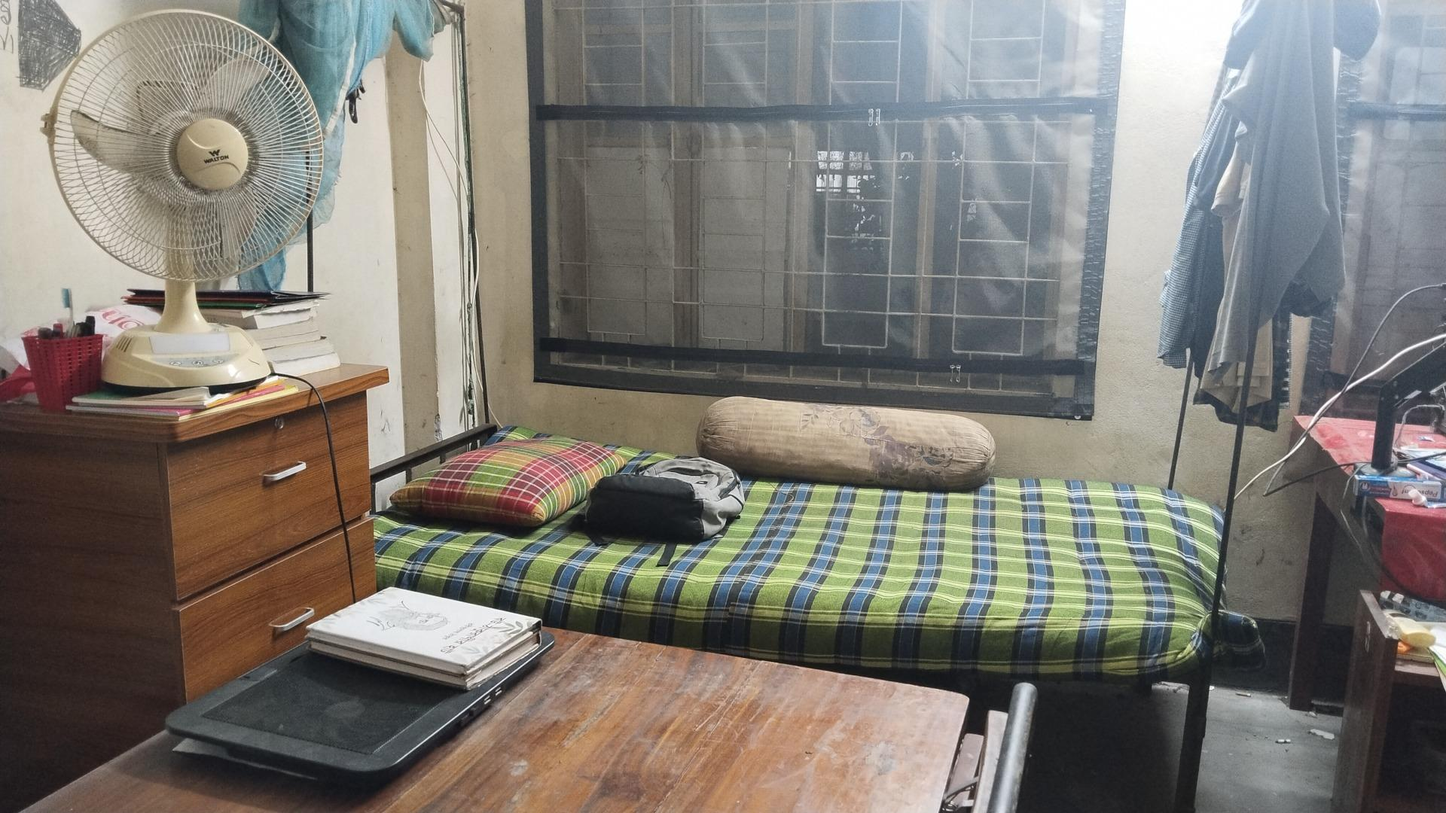Bag: (586, 453, 743, 541)
Book: (306, 588, 542, 689)
Fan: (45, 9, 324, 389)
Pillow: (697, 397, 996, 489), (389, 439, 626, 523)
Window: (544, 1, 678, 371), (932, 7, 1060, 384), (804, 1, 922, 382), (683, 0, 799, 374)
